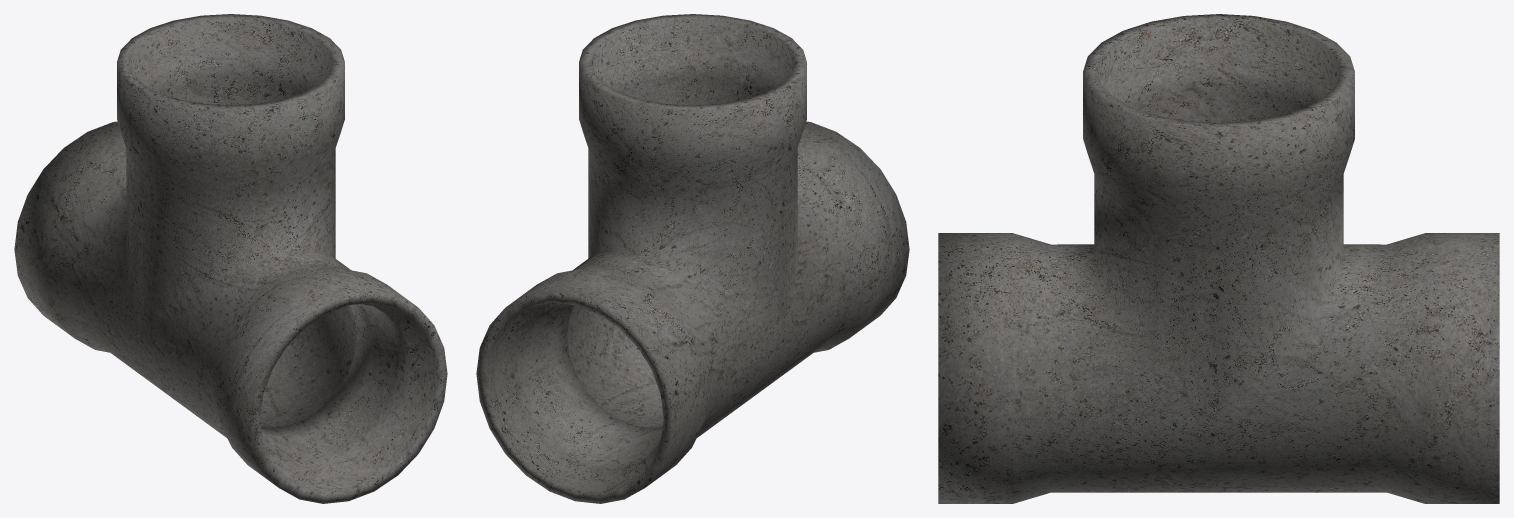
Rendered from concrete_pipe_tee.dae.
3 views of the same model, side by side, from view 1: azimuth 30°, elevation 25°; view 2: azimuth 150°, elevation 25°; view 3: azimuth 270°, elevation 25° (orthographic). The views are drawn at different scales.
Visible parts, largest first — view 1: T; view 2: T; view 3: T.
Boxes of the visible parts, x1=… form: T: x1=14, y1=14, x2=447, y2=503; T: x1=476, y1=14, x2=909, y2=503; T: x1=938, y1=14, x2=1499, y2=503.
Size of the model in its own units: 0.379 by 0.7825 by 0.6466.
1 material, 1 textured.
